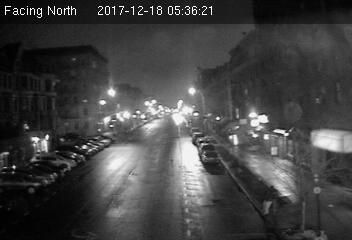car: (200, 148, 218, 164)
